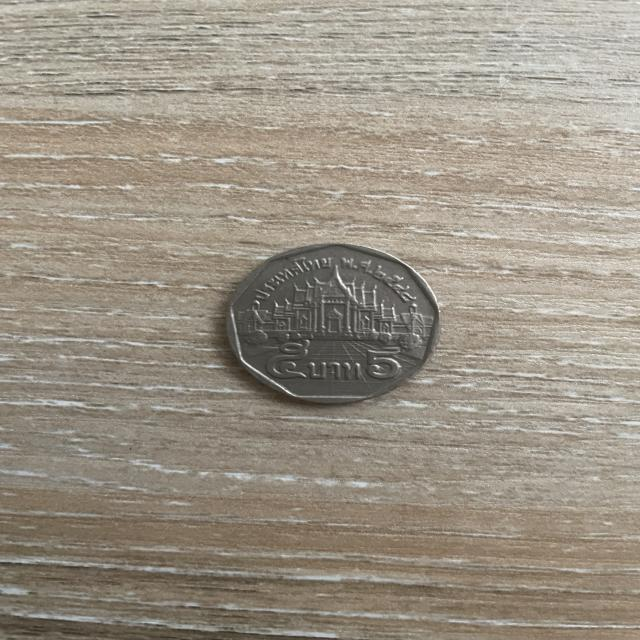5 Bath: (215, 236, 451, 415)
